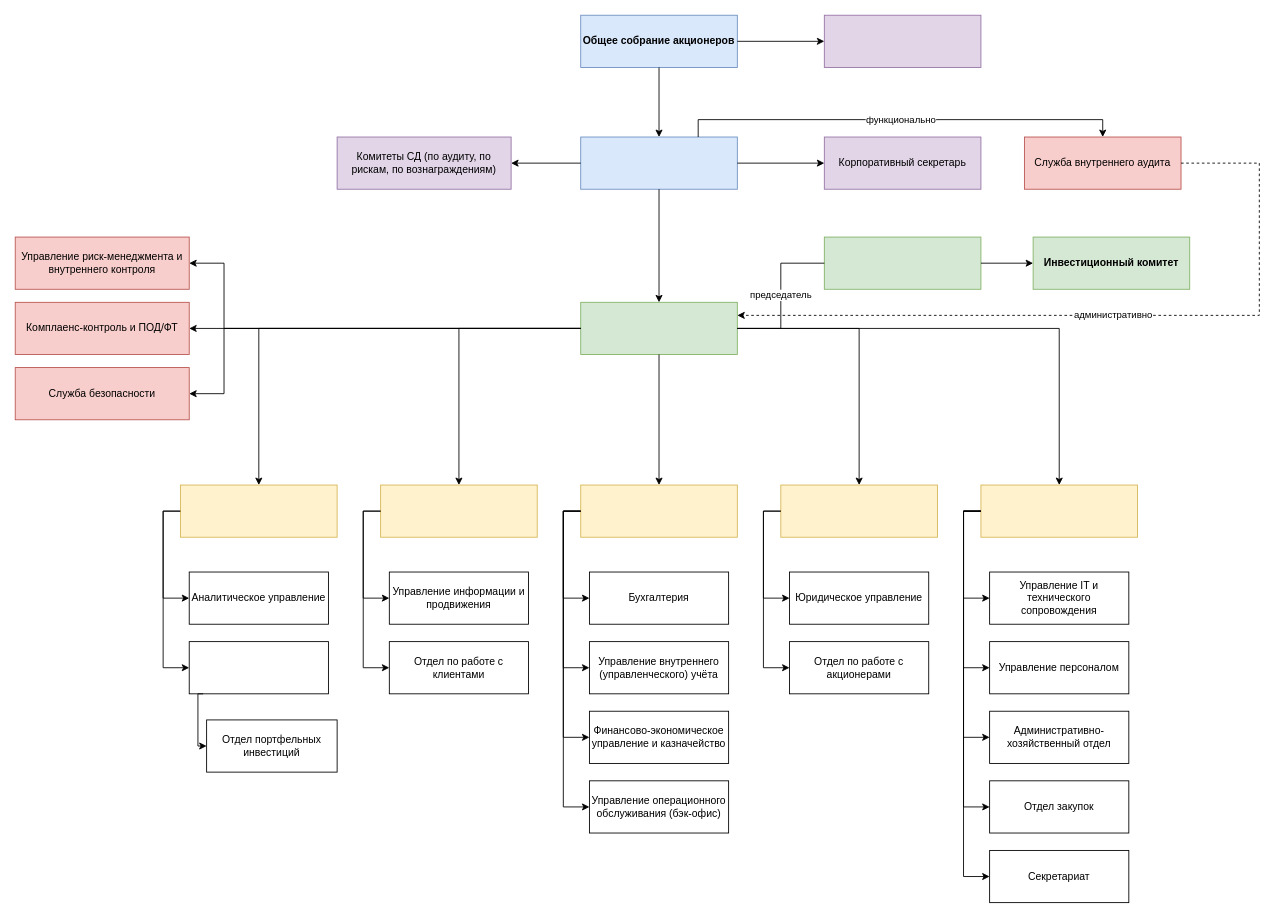
Image size: 1282x918. Some labels were removed from this diagram. The shapes that lost their labels are listed below. From the top down, each one's centre as x and y in pixels, then its label:
At point 902,40: "Ревизионная комиссия".
At point 658,162: "Совет директоров".
At point 902,262: "Правление".
At point 658,328: "Генеральный директор".
At point 258,510: "Директор по инвестициям".
At point 458,510: "Директор по привлечению капитала и продвижению".
At point 658,510: "Финансовый директор".
At point 858,510: "Директор по корпоративным отношениям".
At point 1059,510: "Административный директор".
At point 258,667: "Управление инвестициями".
